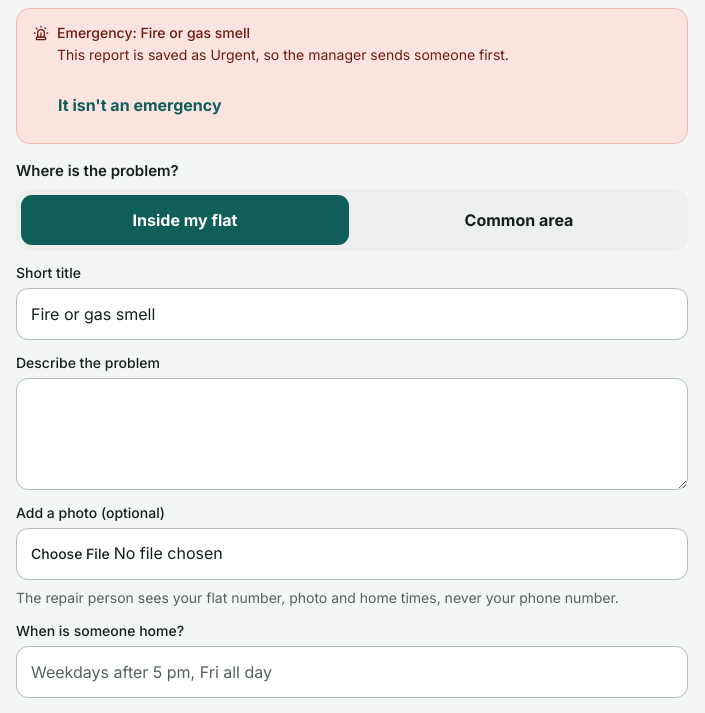
Test: ReportFaultForm: emergency path › goes back to a normal report when it is not an emergency
Later steps or results of the test are not shown.
What coordinates should you click on to do the following:
click the button "It isn't an emergency"
I would click on:
 (140, 105)
Its box is [57,81,223,129].
(page scrolled)
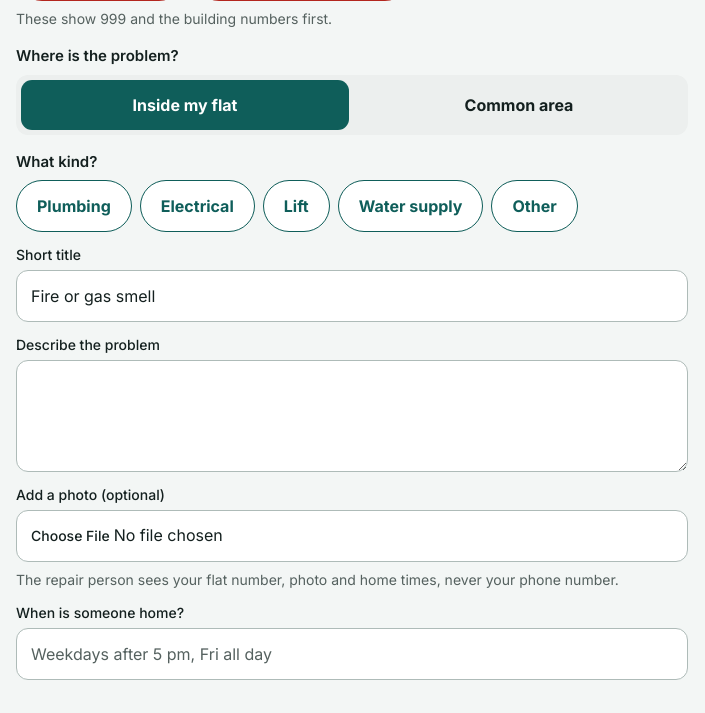
Now the element "What kind?" is shown, box [16,152,578,232]
